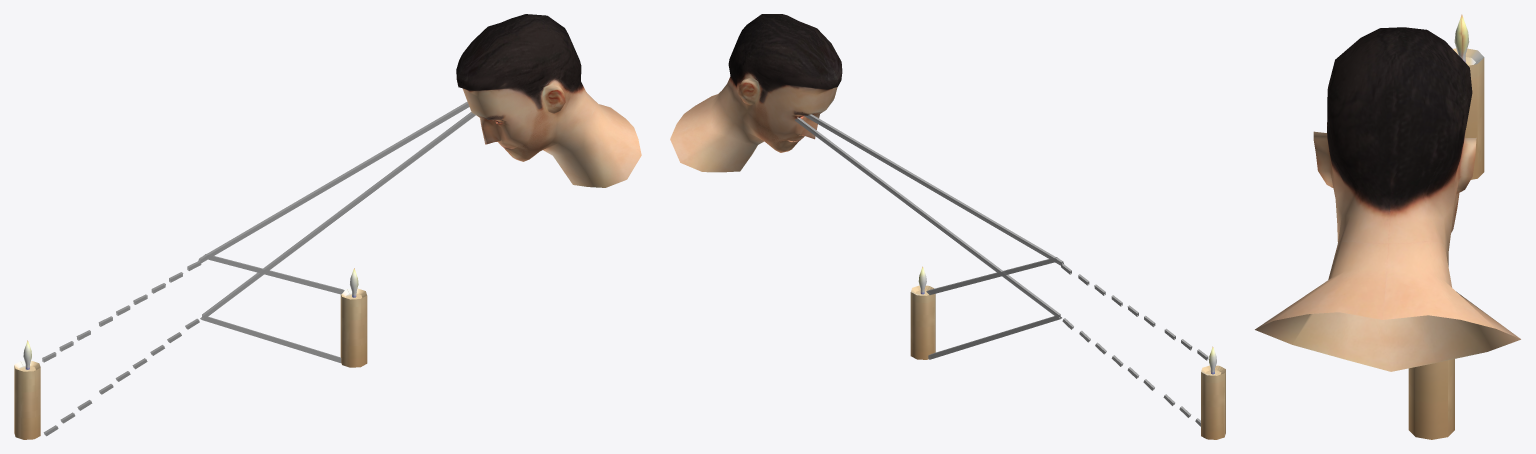
The model's file is face_ray.fbx.
The picture shows the model from 3 angles, left to right: view 1: azimuth 30°, elevation 25°; view 2: azimuth 150°, elevation 25°; view 3: azimuth 270°, elevation 25°; orthographic projection. The views are drawn at different scales.
Parts seen in each view (by area): view 1: Business Man Body, candle, candle1, polySurface1, polySurface11, polySurface12, polySurface13; view 2: Business Man Body, candle1, candle, polySurface1, polySurface11, polySurface12, polySurface13; view 3: Business Man Body, candle, candle1.
Part boxes in pixels (<box>): Business Man Body: <box>456,14,641,187</box>; candle: <box>340,268,367,367</box>; candle1: <box>14,340,40,439</box>; polySurface1: <box>202,112,475,319</box>; polySurface11: <box>198,101,469,264</box>; polySurface12: <box>200,316,341,362</box>; polySurface13: <box>203,254,344,294</box>; Business Man Body: <box>670,14,842,172</box>; candle1: <box>1201,346,1225,439</box>; candle: <box>910,266,935,359</box>; polySurface1: <box>795,117,1060,318</box>; polySurface11: <box>804,114,1063,265</box>; polySurface12: <box>928,316,1061,359</box>; polySurface13: <box>926,257,1058,294</box>; Business Man Body: <box>1255,27,1520,371</box>; candle: <box>1408,359,1454,439</box>; candle1: <box>1453,14,1484,179</box>.
Size of the model in its own units: 206 by 106 by 48.38.
4 materials, 3 textured.
